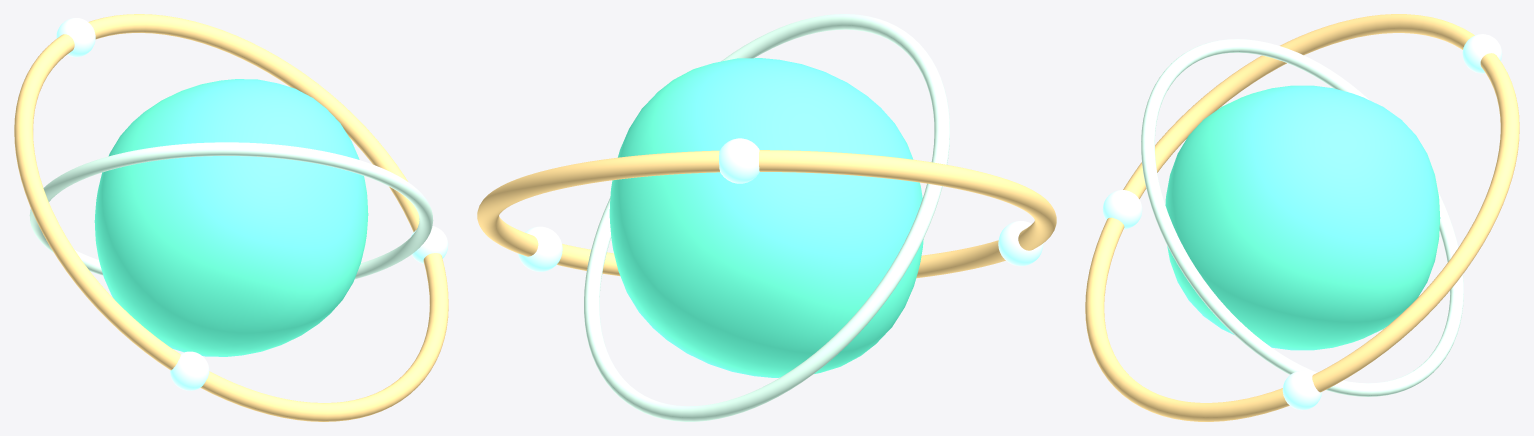
File: elena_orb.glb
The picture shows the model from 3 angles, left to right: view 1: azimuth 30°, elevation 25°; view 2: azimuth 150°, elevation 25°; view 3: azimuth 270°, elevation 25°; orthographic projection. The views are drawn at different scales.
Parts seen in each view (by area): view 1: JadeCore, RingOuter, RingInner, SatelliteNode_3, SatelliteNode_2, SatelliteNode_1; view 2: JadeCore, RingOuter, RingInner, SatelliteNode_2, SatelliteNode_1, SatelliteNode_3; view 3: JadeCore, RingOuter, RingInner, SatelliteNode_1, SatelliteNode_3, SatelliteNode_2.
Boxes of the visible parts, x1=… form: JadeCore: x1=94, y1=79, x2=368, y2=356; RingOuter: x1=14, y1=14, x2=448, y2=421; RingInner: x1=29, y1=142, x2=433, y2=279; SatelliteNode_3: x1=170, y1=351, x2=209, y2=390; SatelliteNode_2: x1=56, y1=18, x2=95, y2=57; SatelliteNode_1: x1=411, y1=226, x2=448, y2=264; JadeCore: x1=609, y1=58, x2=923, y2=377; RingOuter: x1=477, y1=150, x2=1056, y2=278; RingInner: x1=584, y1=14, x2=949, y2=421; SatelliteNode_2: x1=719, y1=138, x2=759, y2=183; SatelliteNode_1: x1=518, y1=226, x2=562, y2=271; SatelliteNode_3: x1=998, y1=221, x2=1043, y2=266; JadeCore: x1=1165, y1=85, x2=1440, y2=350; RingOuter: x1=1085, y1=14, x2=1519, y2=421; RingInner: x1=1141, y1=39, x2=1463, y2=396; SatelliteNode_1: x1=1282, y1=370, x2=1321, y2=410; SatelliteNode_3: x1=1102, y1=190, x2=1142, y2=229; SatelliteNode_2: x1=1462, y1=34, x2=1502, y2=73.
Bounding box in the file's own units: 1.85 × 1.21 × 1.64.
